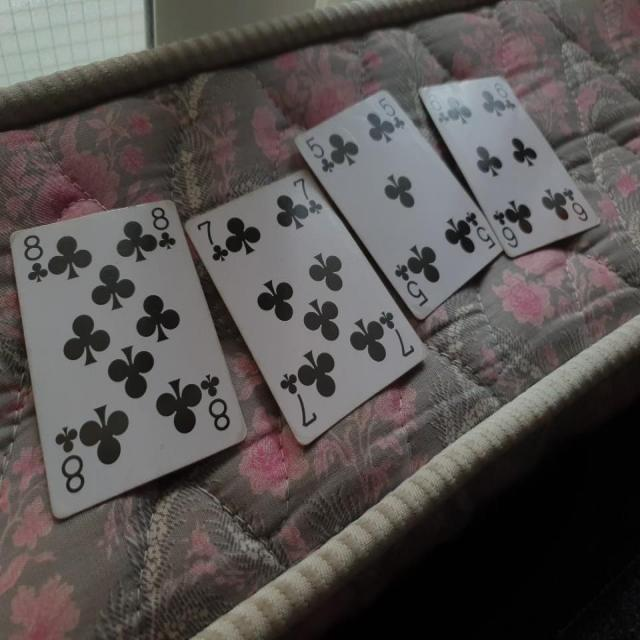5 of clubs: (291, 85, 506, 317)
6 of clubs: (417, 72, 600, 260)
7 of clubs: (184, 166, 428, 447)
8 of clubs: (8, 198, 248, 522)
